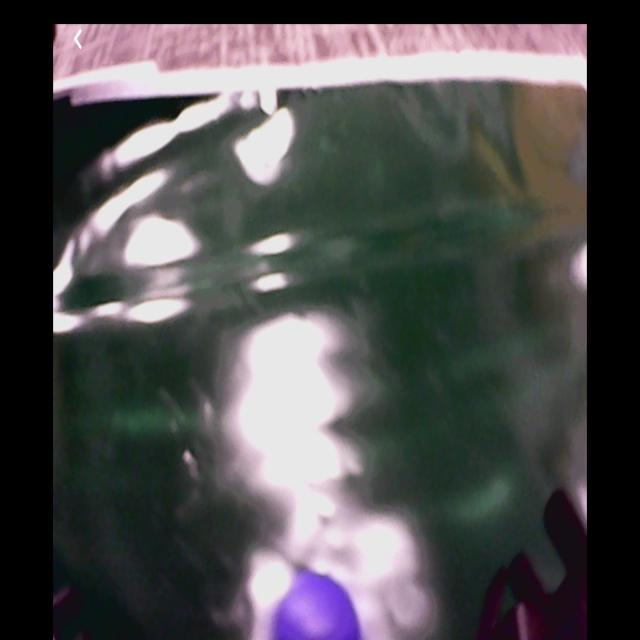ball: (271, 573, 363, 640)
